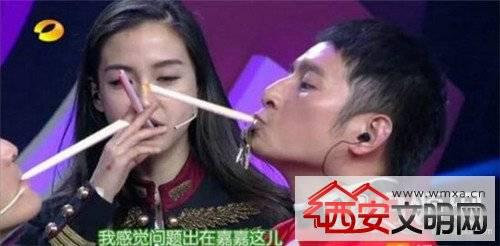smoking: (142, 77, 272, 132), (21, 121, 129, 177), (110, 62, 154, 134)
